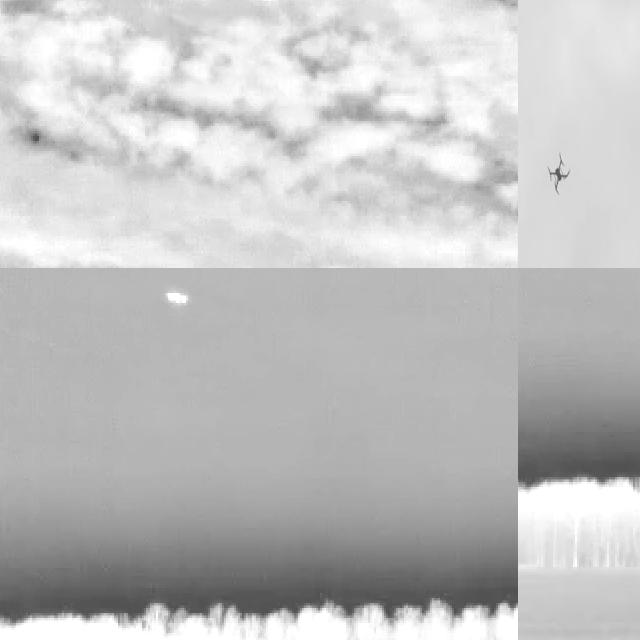0: (251, 0, 291, 11)
1: (166, 285, 200, 313)
drone: (546, 152, 573, 197)
